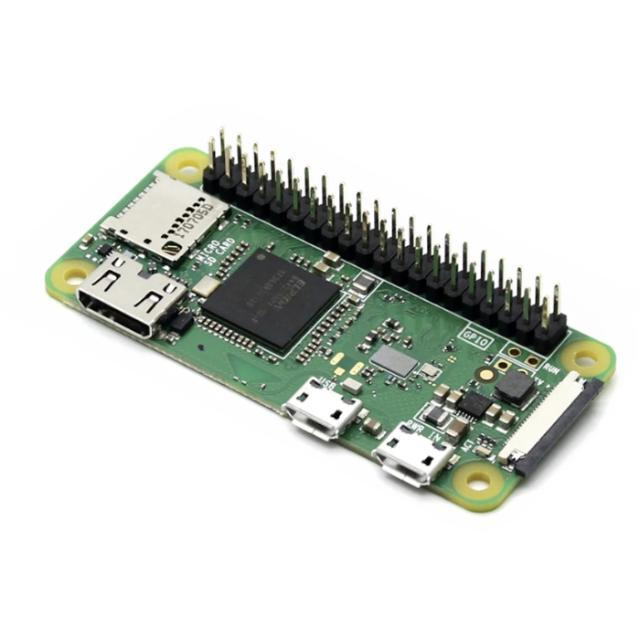Raspberry-Pi-Zero-WH: (48, 135, 614, 513)
